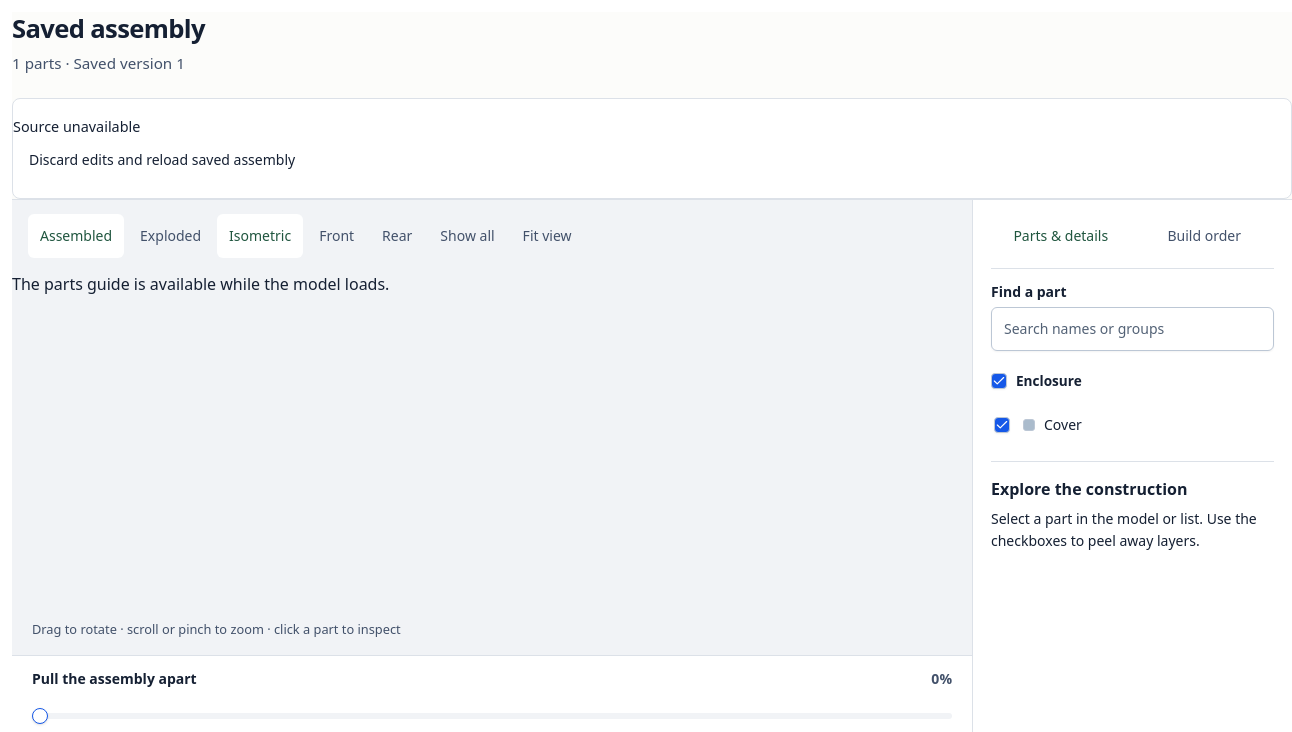
Test: keeps notes accessible when geometry is unavailable and prohibits archived editing
Expected: the text "Source unavailable" is shown, [13,117,140,136]
What coordinates should you click on to do the following:
click the button "Cover"
I would click on:
 (1142, 425)
Its box is [1019,403,1264,447].
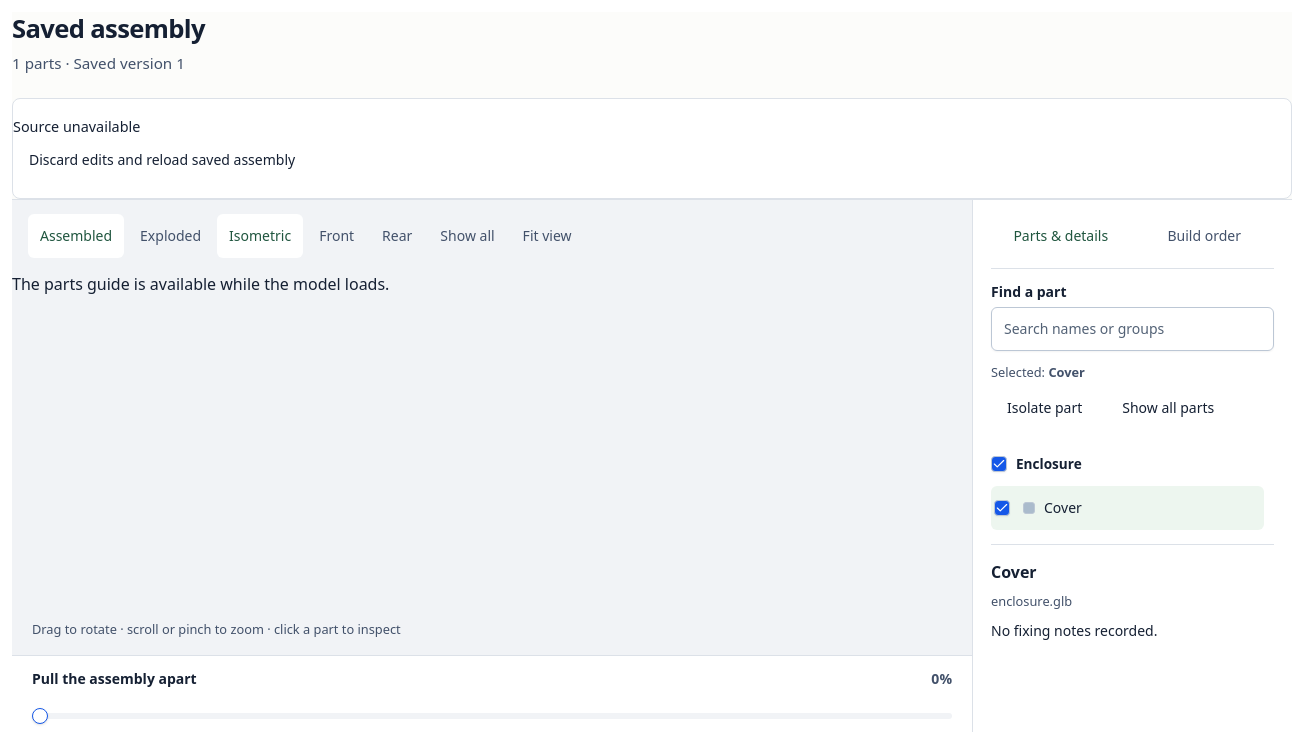
Expected: the heading "Cover" is shown, [991,561,1037,583]
